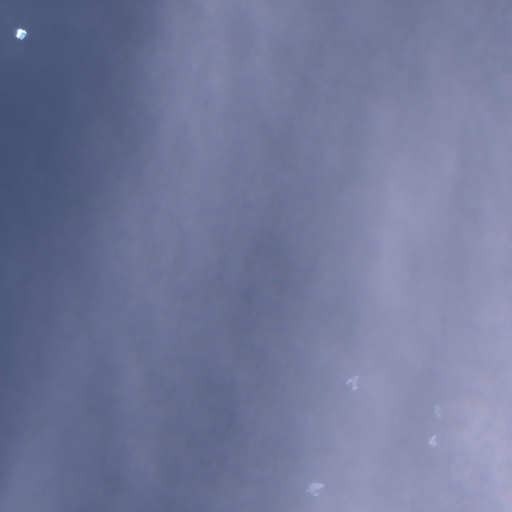Iceberg: (307, 483, 323, 495), (346, 376, 358, 389), (16, 28, 26, 39), (429, 436, 436, 446), (435, 405, 441, 416)
